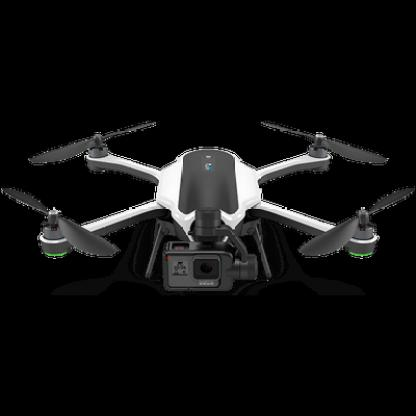drone: (15, 113, 415, 280)
